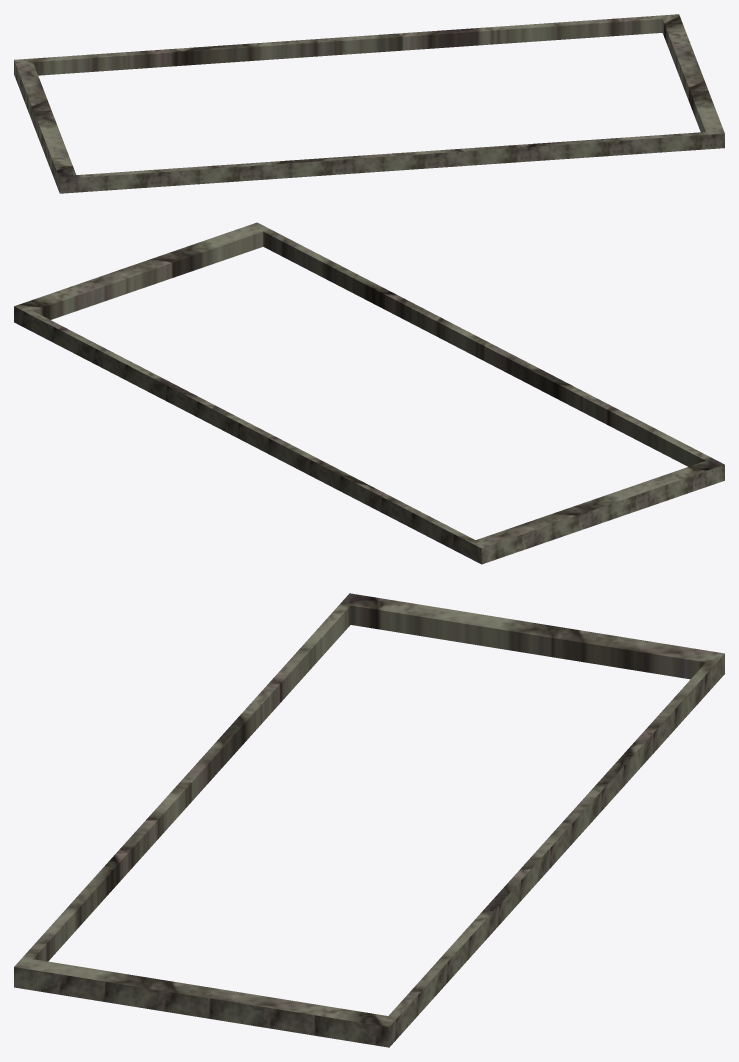
File: H1_Roof.gltf
3 views of the same model, one above another, from view 1: azimuth 30°, elevation 25°; view 2: azimuth 150°, elevation 25°; view 3: azimuth 270°, elevation 25° (orthographic). The views are drawn at different scales.
Visible parts, largest first — view 1: H1_Roof; view 2: H1_Roof; view 3: H1_Roof.
Part boxes in pixels (box(x1,y1,x2,y2)): H1_Roof: box(14, 14, 724, 193); H1_Roof: box(14, 222, 724, 564); H1_Roof: box(14, 593, 724, 1047).
Size of the model in its own units: 98.71 by 2.18 by 68.36.
1 material, 1 textured.
